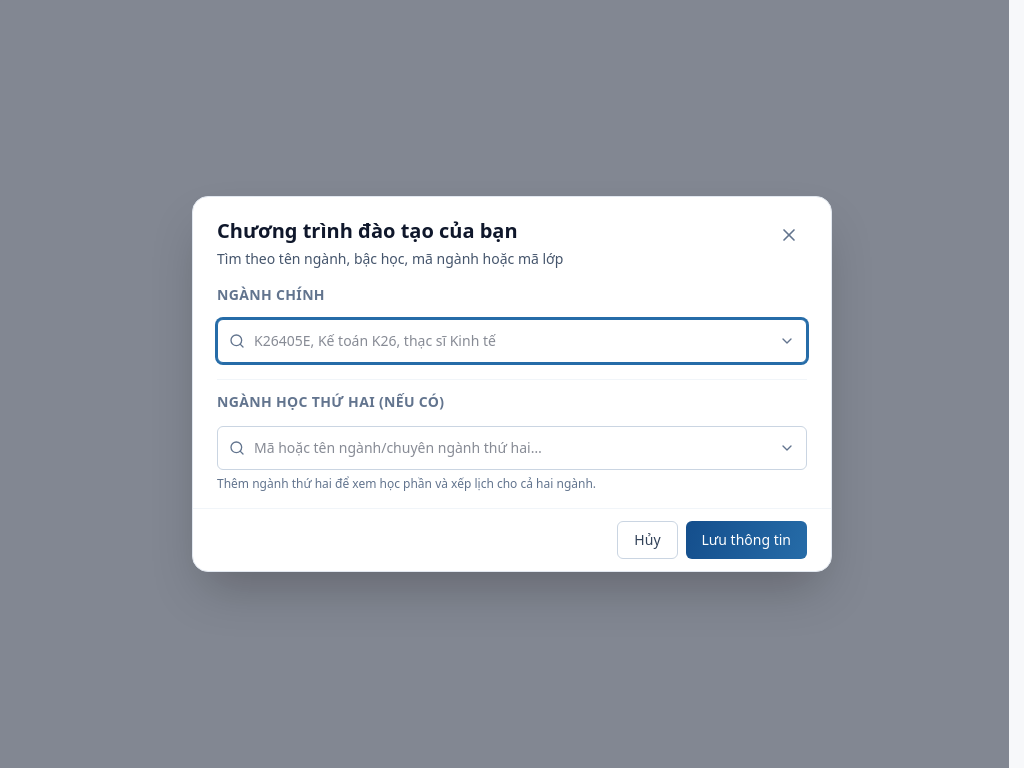
Test: ProgramProfileDialog › renders Coop description for suffix H
Type "K23406H" into the field labelled "Ngành chính". click: point(512, 341)
box: left=217, top=319, right=807, bottom=363
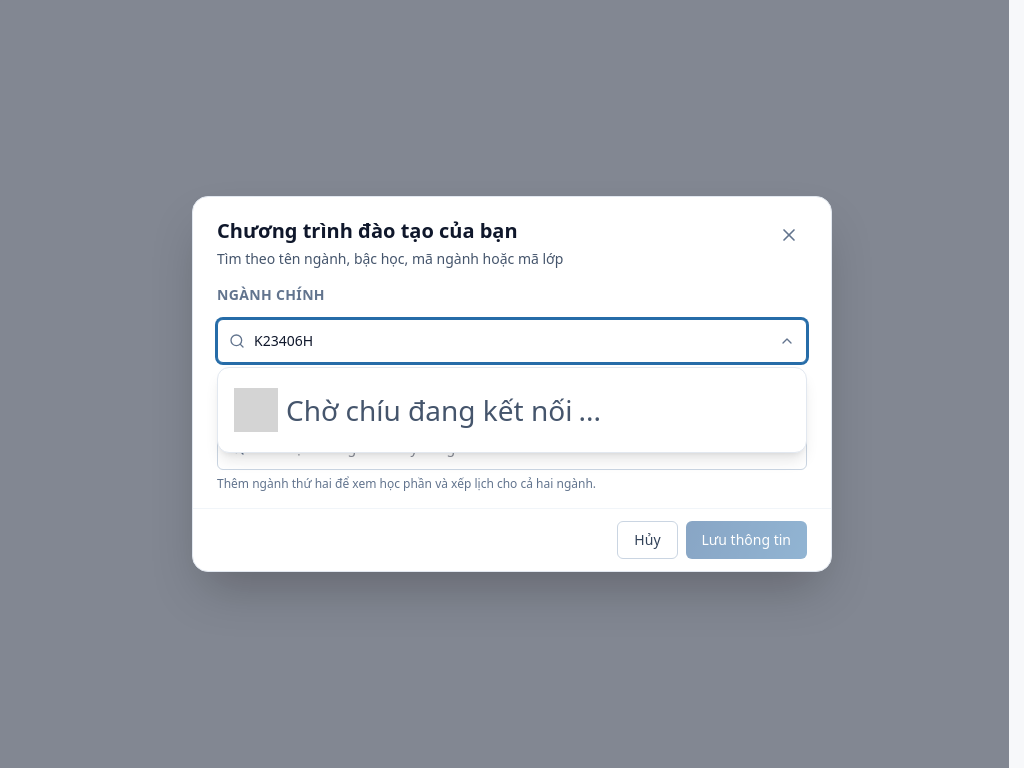
Press Enter in the field labelled "Ngành chính", box left=217, top=319, right=807, bottom=363
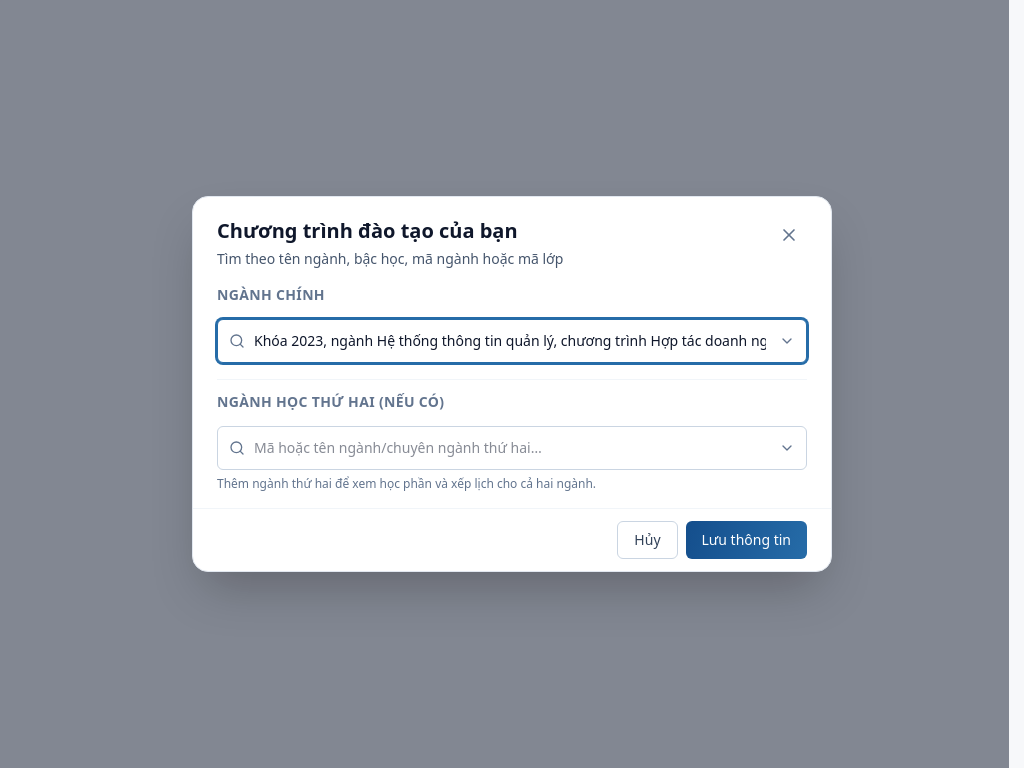
Check: the field labelled "Ngành chính" holds "Khóa 2023, ngành Hệ thống thông tin quản lý, chương trình Hợp tác doanh nghiệp.", box left=217, top=319, right=807, bottom=363
